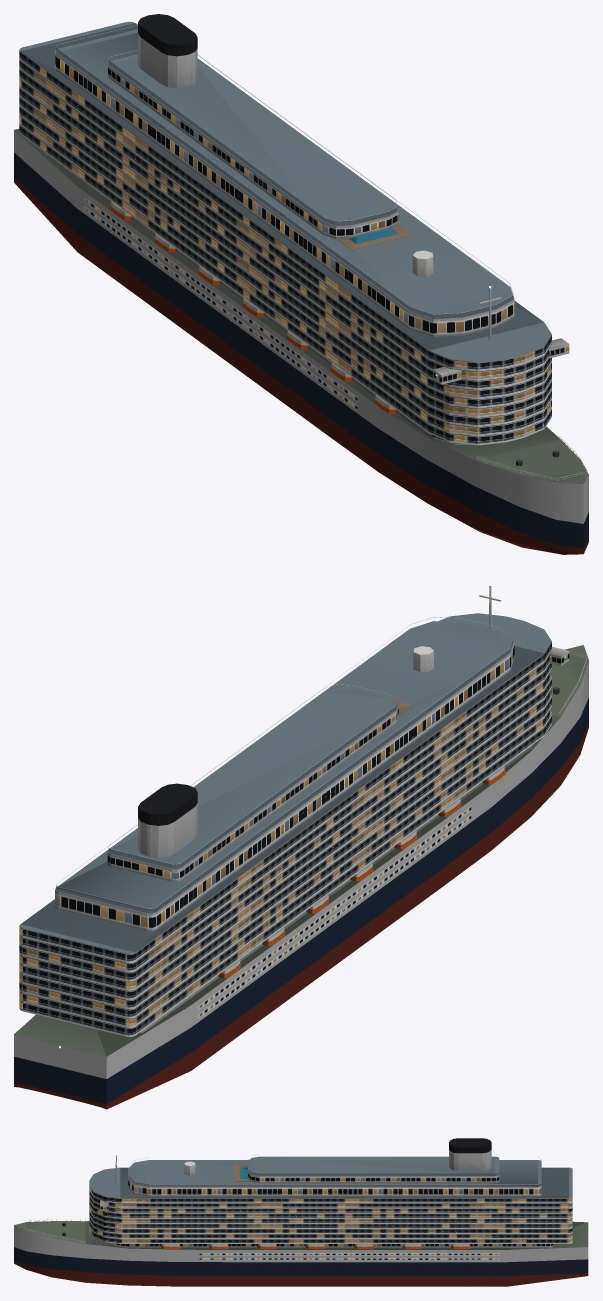
Rendered from boats.glb.
3 views of the same model, one above another, from view 1: azimuth 30°, elevation 25°; view 2: azimuth 150°, elevation 25°; view 3: azimuth 270°, elevation 25° (orthographic). The views are drawn at different scales.
Visible parts, largest first — view 1: cruise_ship_body, cruise_ship_glass; view 2: cruise_ship_body, cruise_ship_glass; view 3: cruise_ship_body, cruise_ship_glass.
Boxes of the visible parts, x1=… form: cruise_ship_body: x1=14, y1=14, x2=588, y2=554; cruise_ship_glass: x1=56, y1=47, x2=513, y2=318; cruise_ship_body: x1=14, y1=583, x2=588, y2=1109; cruise_ship_glass: x1=56, y1=638, x2=513, y2=912; cruise_ship_body: x1=14, y1=1138, x2=588, y2=1286; cruise_ship_glass: x1=129, y1=1170, x2=540, y2=1186.
Size of the model in its own units: 42.55 by 75.6 by 297.
Materials: 11 (10 with a texture image).
